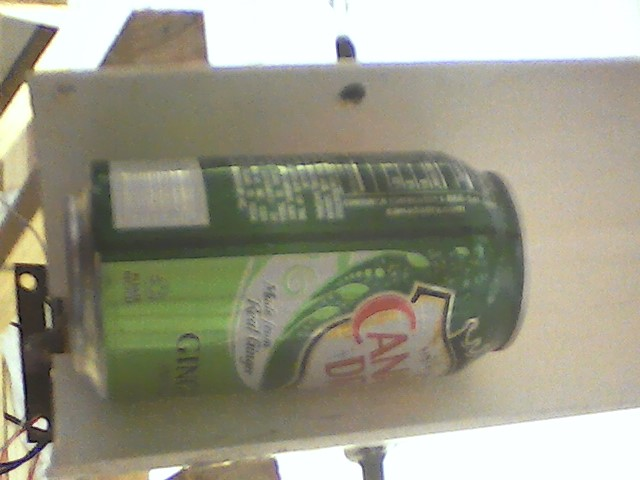lata: (61, 144, 536, 406)
